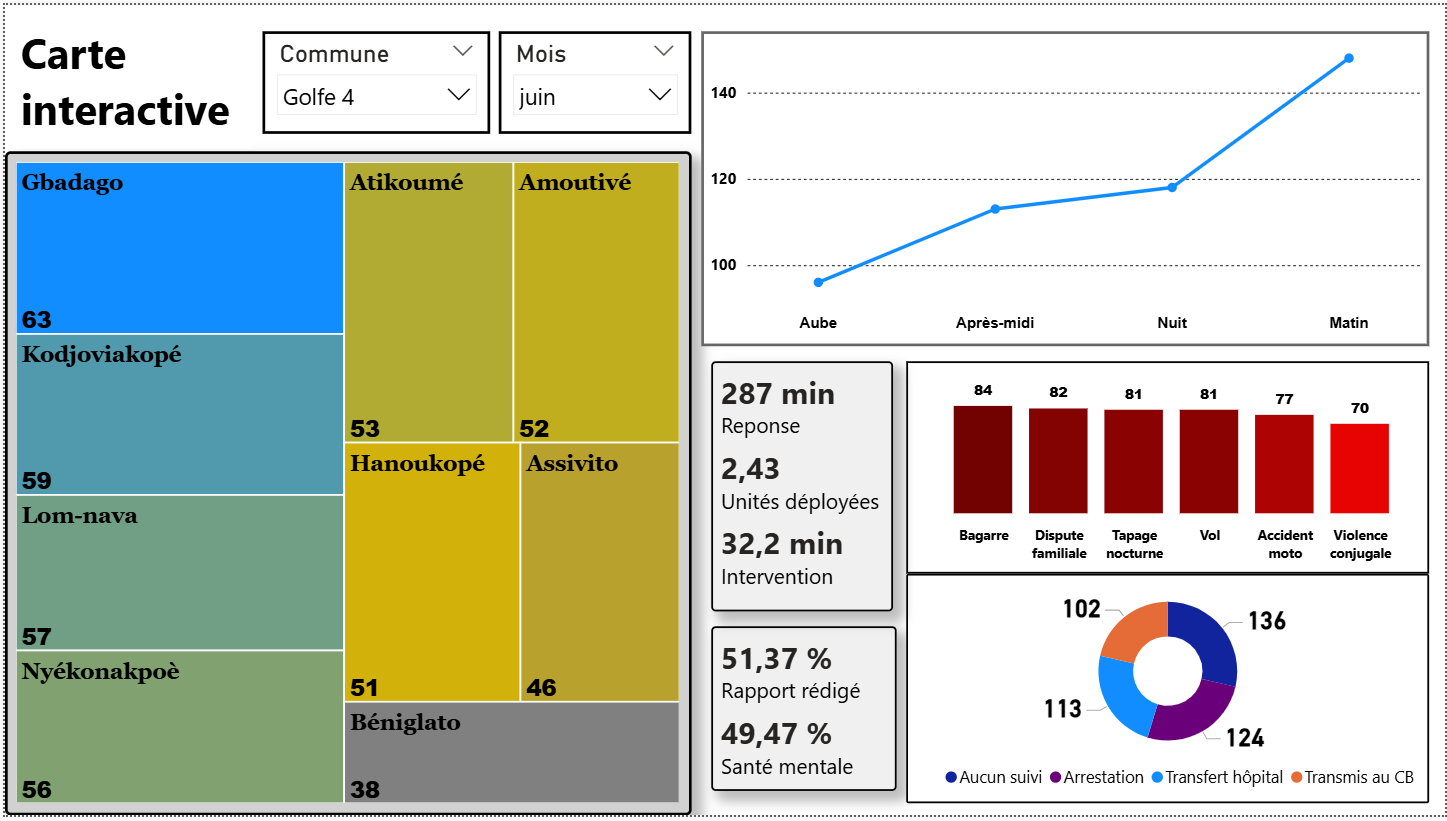

The dashboard page shown, as its layout file describes it:
{"tool":"powerbi","page":{"name":"Carte interactive des secteurs","canvas":[1280,720],"ordinal":1},"visuals":[{"type":"slicer","fields":{"Values":["incidents_grand_lome.Commune"]},"box":[228.8,23.8,202.5,91.2],"z":0},{"type":"treemap","fields":{"Group":["incidents_grand_lome.Quartier"],"Values":["incidents_grand_lome.Total incident"]},"box":[0,130,610,590],"z":1000},{"type":"slicer","fields":{"Values":["incidents_grand_lome.Date_appel.Variation.Hiérarchie de dates.Mois"]},"box":[438.8,23.8,171.2,91.2],"z":2000},{"type":"lineChart","fields":{"Y":["incidents_grand_lome.Total incident"],"Category":["incidents_grand_lome.Segment_horaire_appel"]},"box":[618.8,23.8,647.5,280],"z":3000},{"type":"multiRowCard","fields":{"Values":["incidents_grand_lome.Rapport rédigé","incidents_grand_lome.Santé mentale"]},"box":[627.5,552.5,165,146.2],"z":4000},{"type":"columnChart","fields":{"Category":["incidents_grand_lome.Type_incident"],"Y":["incidents_grand_lome.Total incident"]},"box":[801.2,316.2,465,188.8],"z":5000},{"type":"donutChart","fields":{"Category":["incidents_grand_lome.Conclusion_appel"],"Series":["incidents_grand_lome.Conclusion_appel"],"Y":["incidents_grand_lome.Total incident"]},"box":[801.2,505,465,203.8],"z":6000},{"type":"multiRowCard","fields":{"Values":["incidents_grand_lome.Reponse","incidents_grand_lome.Unités déployées","incidents_grand_lome.Intervention"]},"box":[627.5,316.2,161.2,222.5],"z":7000},{"type":"textbox","box":[8.8,12.5,211.2,115],"z":8000}]}

Visuals, with their boxes in screenshot pixels (x1, y1, x2, y2), scaled from the page's 1280x720 canvas onto the 1447x821 screenshot:
slicer - incidents_grand_lome.Commune: 259,27,488,131
treemap - incidents_grand_lome.Quartier x incidents_grand_lome.Total incident: 0,148,690,820
slicer - incidents_grand_lome.Date_appel.Variation.Hiérarchie de dates.Mois: 496,27,690,131
lineChart - incidents_grand_lome.Total incident x incidents_grand_lome.Segment_horaire_appel: 700,27,1432,346
multiRowCard - incidents_grand_lome.Rapport rédigé x incidents_grand_lome.Santé mentale: 709,630,896,797
columnChart - incidents_grand_lome.Type_incident x incidents_grand_lome.Total incident: 906,361,1431,576
donutChart - incidents_grand_lome.Conclusion_appel x incidents_grand_lome.Conclusion_appel: 906,576,1431,808
multiRowCard - incidents_grand_lome.Reponse x incidents_grand_lome.Unités déployées: 709,361,892,614
textbox: 10,14,249,145
